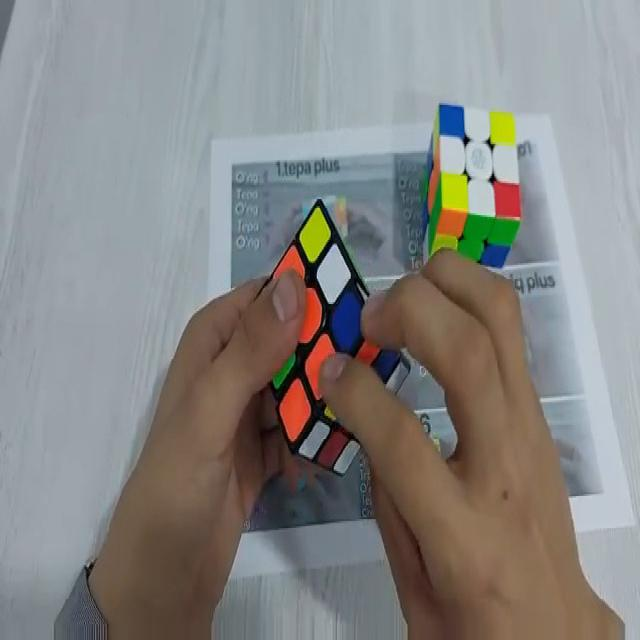Rub: (249, 199, 410, 477), (421, 102, 524, 275)
